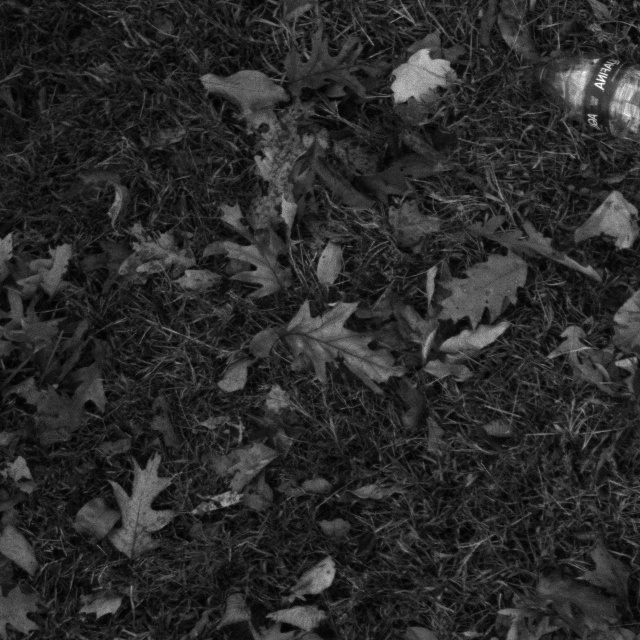bottle: (528, 50, 640, 139)
